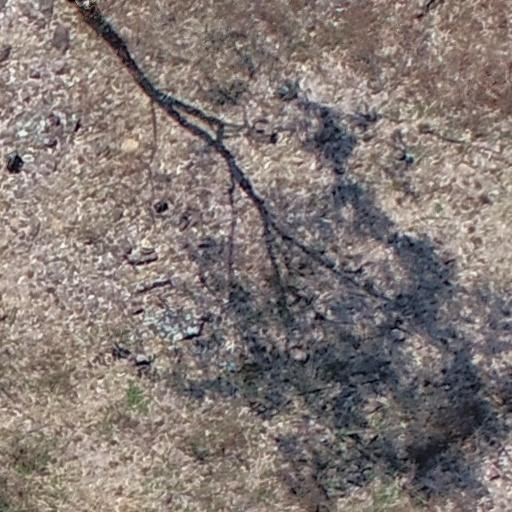stone: (288, 348, 308, 364), (139, 236, 153, 256)
